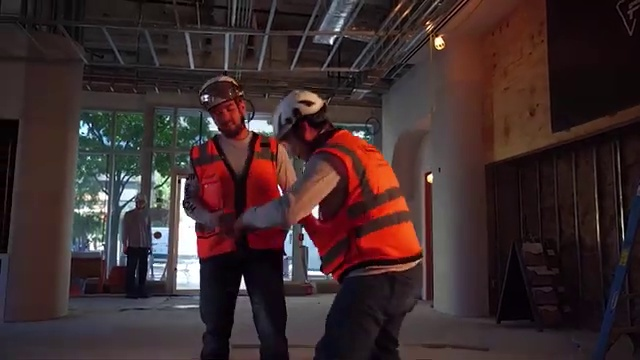helmet: (267, 81, 329, 146), (196, 71, 248, 110)
jacket: (304, 120, 430, 287), (185, 131, 294, 255)
